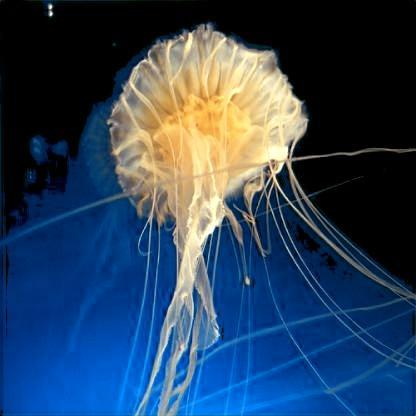Mosaic: (109, 31, 306, 397)
